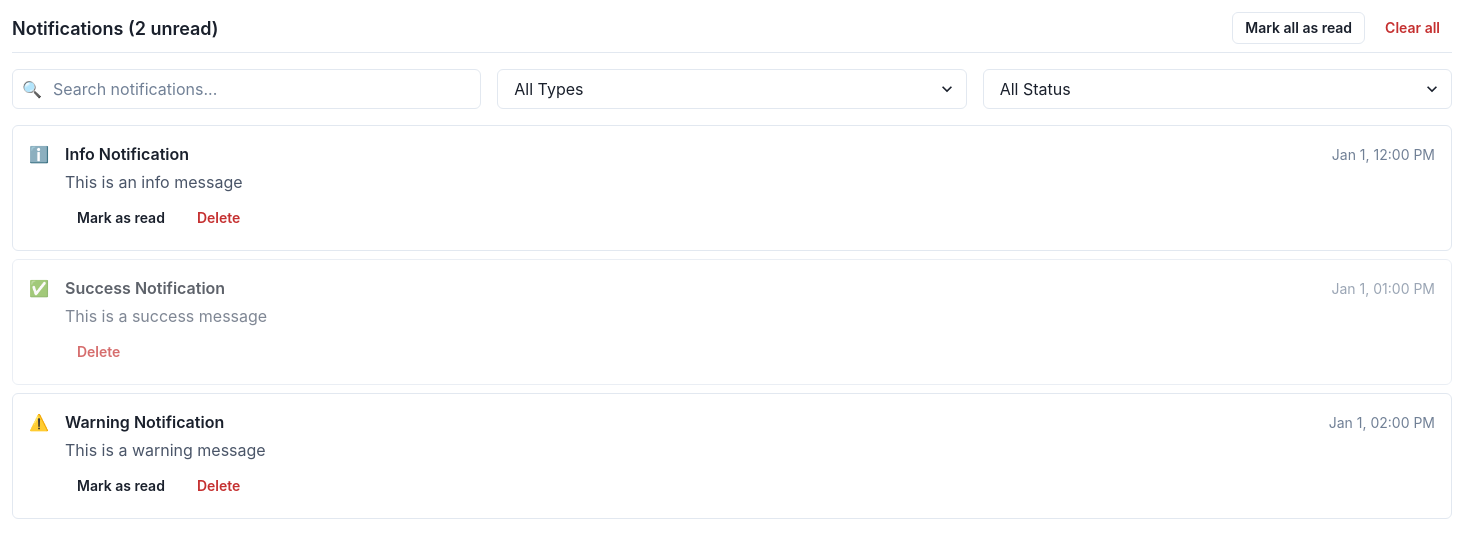
Scenario: NotificationList Component › filters notifications by search term
The image size is (1464, 536).
Type "warning" into the field with placeholder "Search notifications..." at x=247, y=89, box [12, 69, 481, 109]
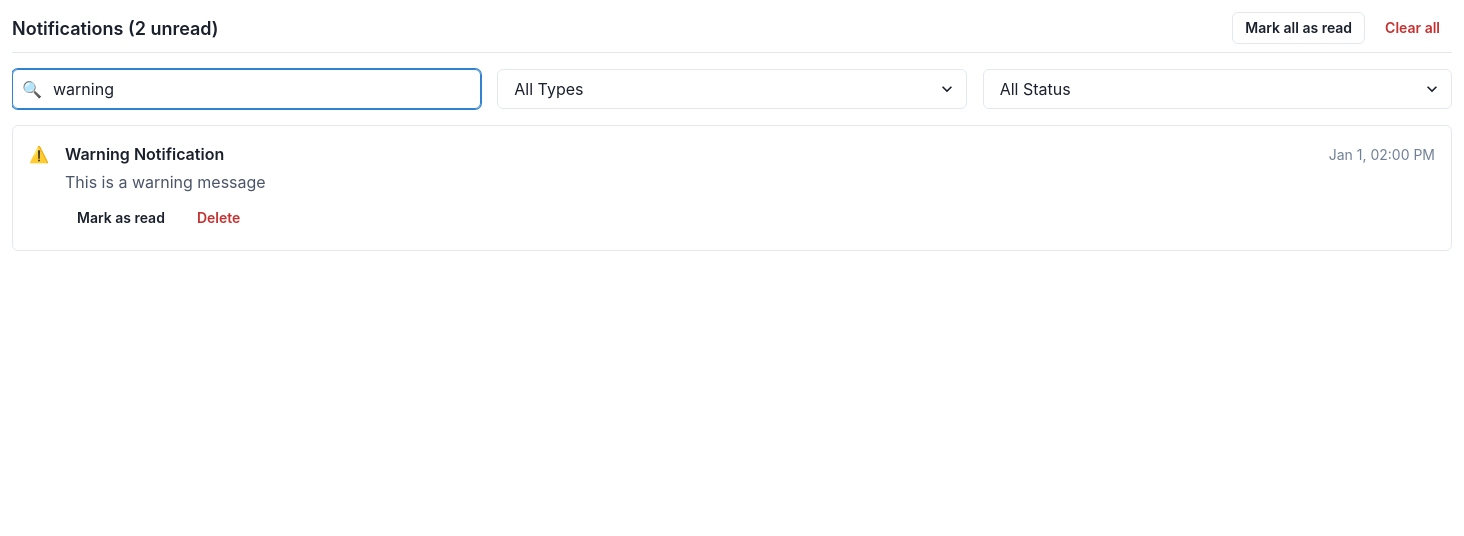
expect the text "Warning Notification" is shown: met, box [65, 142, 224, 166]
expect the text "Info Notification" is gone: met
expect the text "Success Notification" is gone: met
